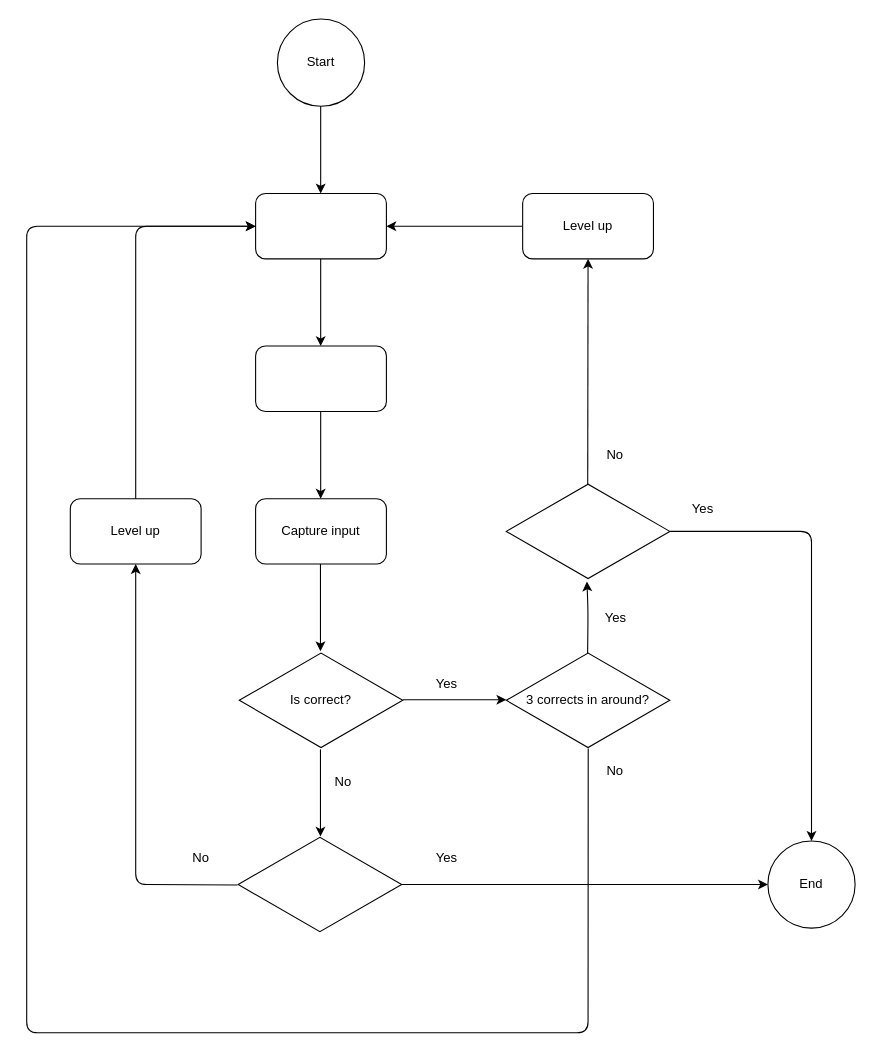
Some shapes in this 874 by 1061 pixel diagram are drawn without their labels. Here are the shapes that lost their labels. From the top down, the centre of each, then its label:
the point at 320,225: Show word
the point at 320,378: Clean screen
the point at 587,530: is max level?
the point at 319,884: 3 incorrects?
